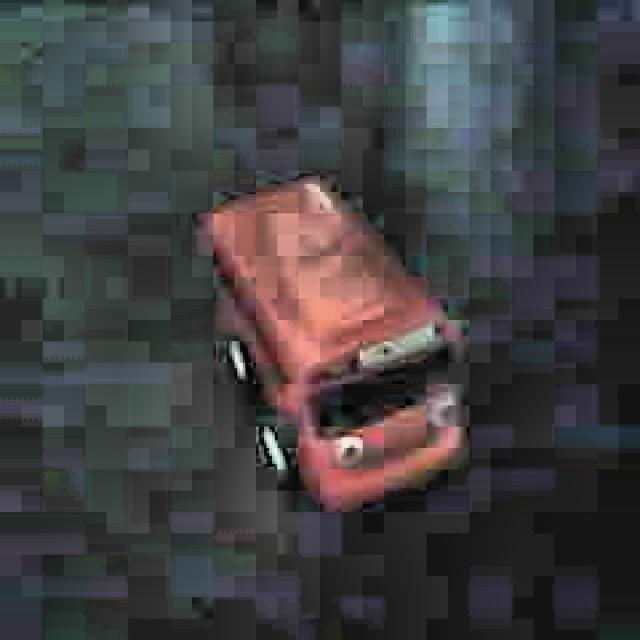bus: (193, 162, 477, 526)
